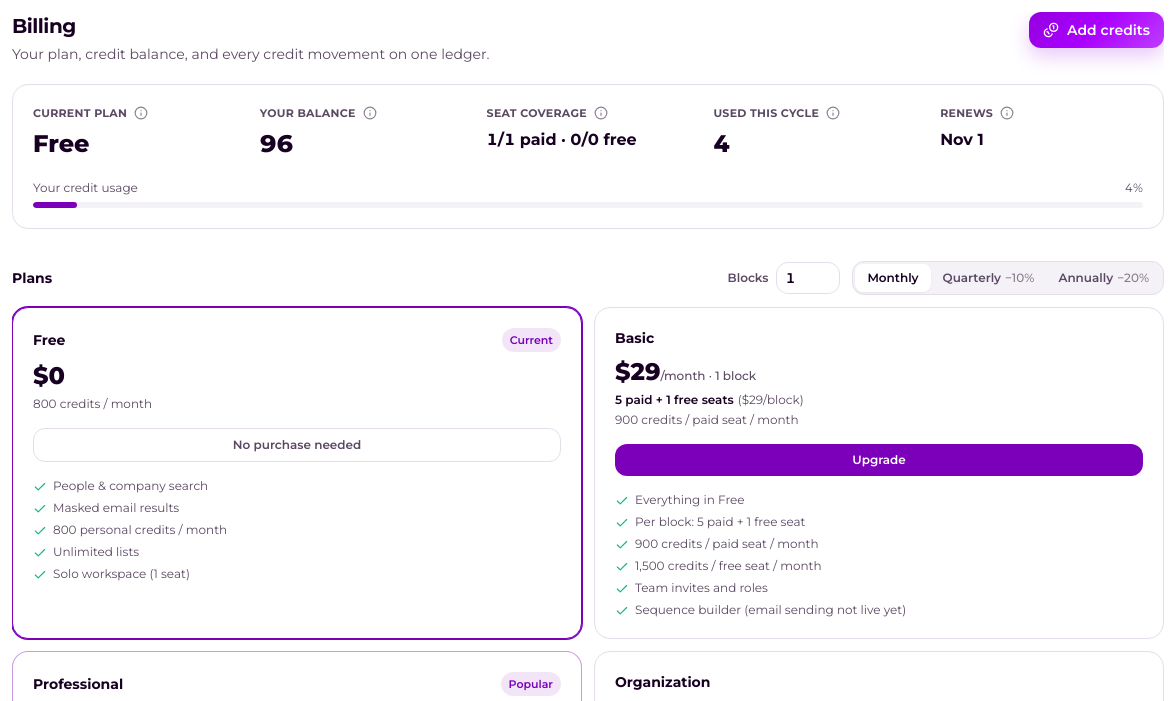
Scenario: Billing › shows discounted prices when Quarterly or Annually is selected
This screenshot has width=1176, height=701.
Expected: the text "Current" is shown, x1=502 y1=328 x2=561 y2=352
Expected: the text "$29" is shown, x1=615 y1=356 x2=660 y2=386
Click the button "Quarterly−10%".
click(988, 278)  # box x1=930 y1=264 x2=1046 y2=292
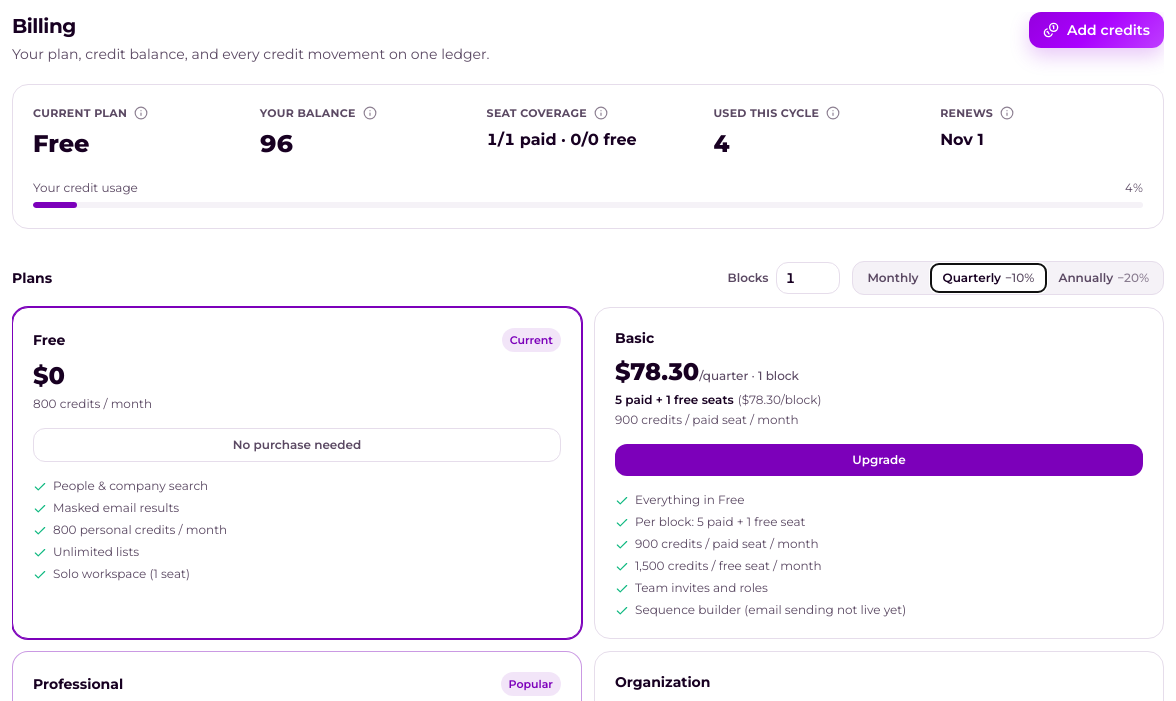
Now the text "$78.30" is shown, box x1=615 y1=356 x2=699 y2=386
Click the button "Annually−20%".
click(1104, 278)  # box x1=1046 y1=264 x2=1161 y2=292
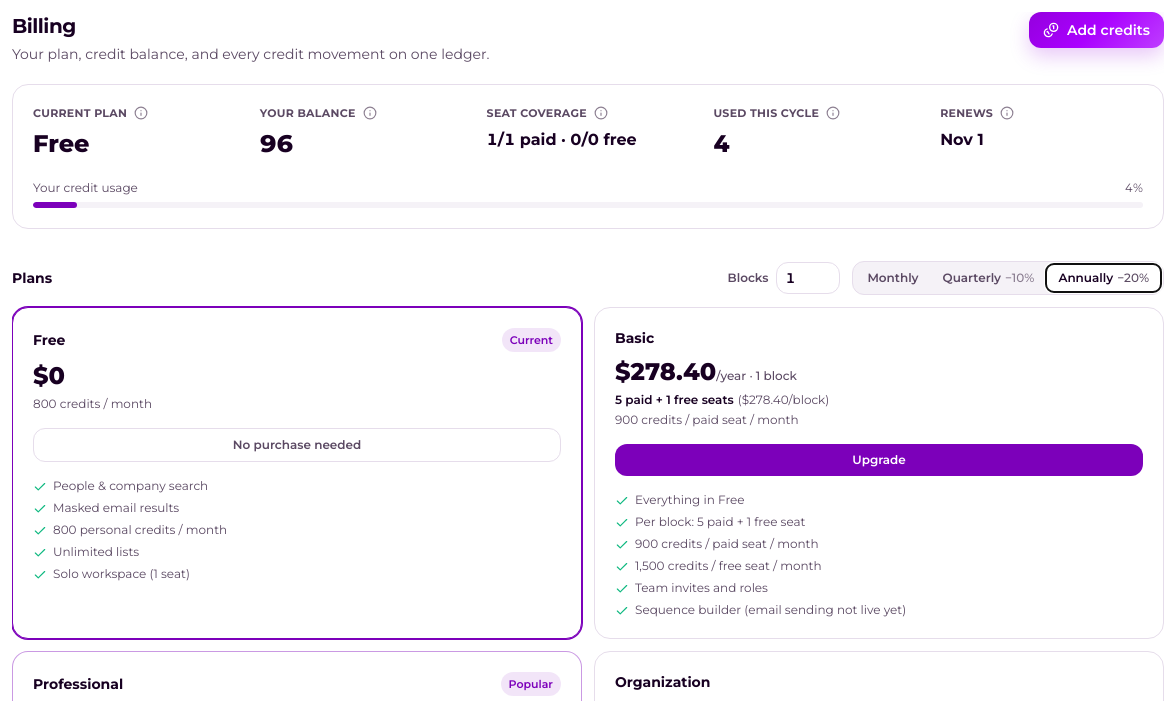
Now the text "$278.40" is shown, box x1=615 y1=356 x2=716 y2=386
